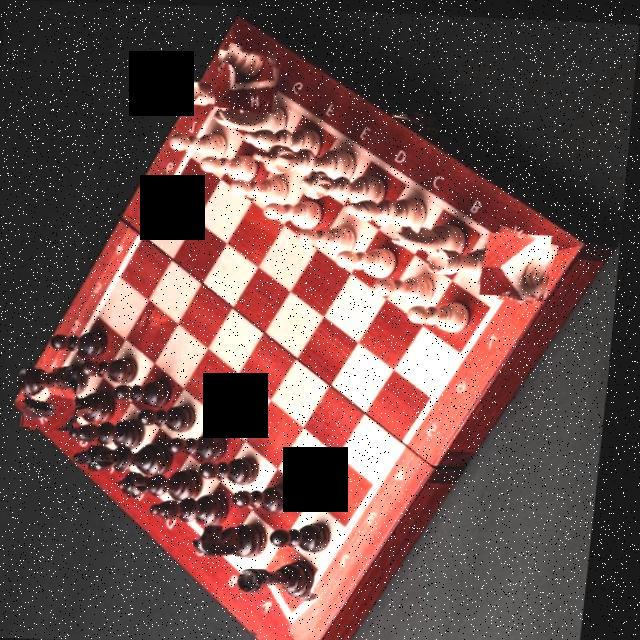chess-table-corners: (483, 225, 560, 298), (210, 44, 282, 112), (258, 577, 330, 636), (24, 366, 84, 430)
